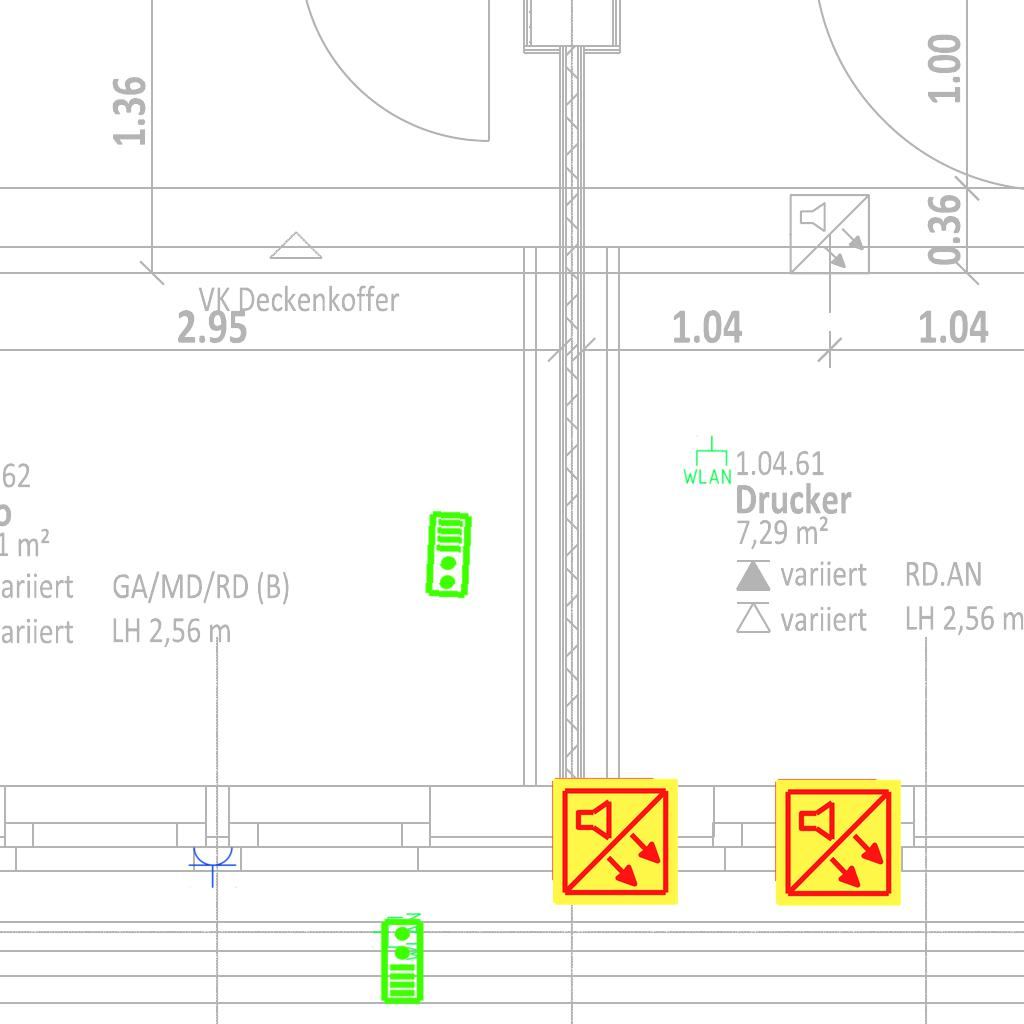Gegensprechanlage_mit_Video: (423, 509, 476, 601), (378, 917, 425, 1005)
OKW_Multisensormelder_(Kombination_optischer_Rauch-Kahlenmonoxid_Waerme-Melder): (549, 776, 681, 908), (772, 777, 904, 909)
Schukosteckdose_einfach: (188, 845, 238, 888)
WLAN: (371, 911, 423, 963), (681, 434, 733, 486)
